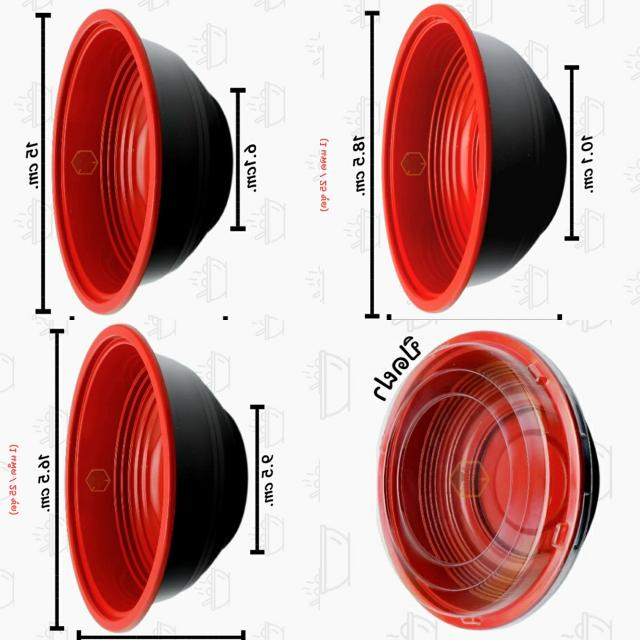Single-Use-Plastic: (379, 331, 599, 629), (382, 5, 566, 312), (66, 325, 248, 631), (52, 10, 232, 314)
